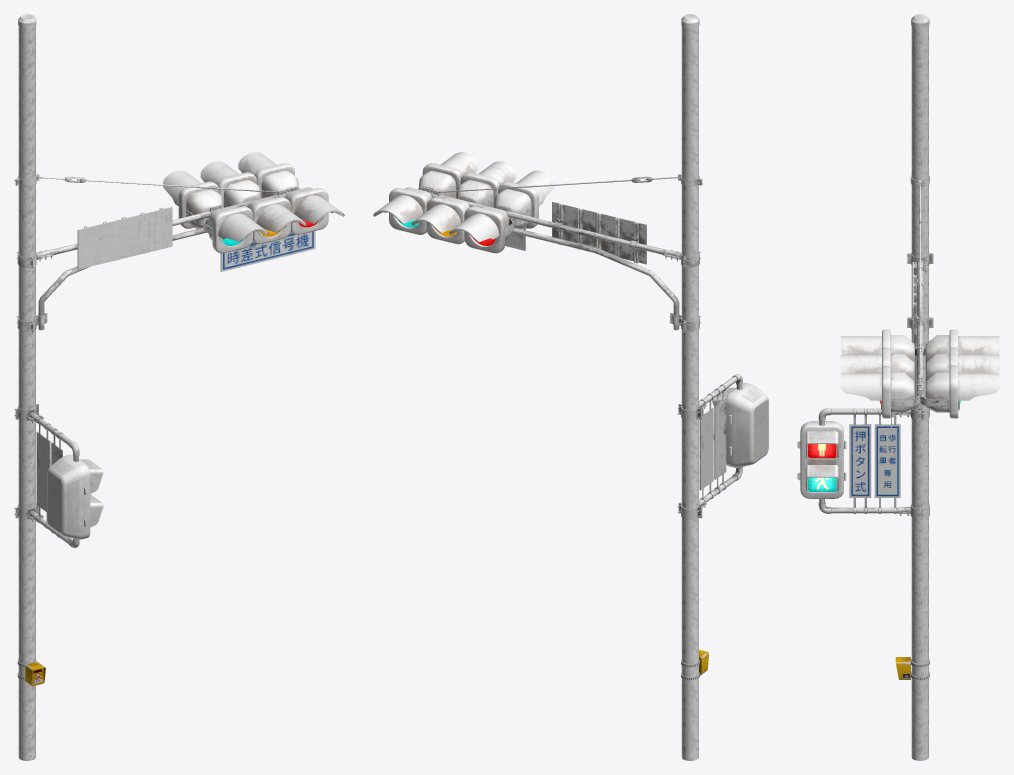
Rendered from TrafficLight.fbx.
The picture shows the model from 3 angles, left to right: view 1: azimuth 30°, elevation 25°; view 2: azimuth 150°, elevation 25°; view 3: azimuth 270°, elevation 25°; orthographic projection.
Parts seen in each view (by area): view 1: TrafficLightPole_LOD0, TrafficLight_forCar_LOD0, TrafficLight_forCar_ura_LOD0, TrafficLight_forWalk_LOD0, TrafficLight_address, TrafficLight_forCar_panel_timertype, TrafficLight_forWalk_panel; view 2: TrafficLightPole_LOD0, TrafficLight_forCar_LOD0, TrafficLight_forCar_ura_LOD0, TrafficLight_forWalk_LOD0, TrafficLight_address, TrafficLight_forWalk_panel, TrafficLight_forWalk_button_panel; view 3: TrafficLightPole_LOD0, TrafficLight_forCar_LOD0, TrafficLight_forCar_ura_LOD0, TrafficLight_forWalk_LOD0, TrafficLight_forWalk_panel, TrafficLight_forWalk_button_panel, TrafficLight_forWalk_button_LOD0, TrafficLight_address, TrafficLight_forWalk_Green, TrafficLight_forWalk_Red.
Part boxes in pixels (x1,y1,x2,y2): TrafficLightPole_LOD0: (18, 14, 36, 760); TrafficLight_forCar_LOD0: (14, 173, 344, 332); TrafficLight_forCar_ura_LOD0: (163, 152, 299, 228); TrafficLight_forWalk_LOD0: (14, 404, 103, 548); TrafficLight_address: (77, 207, 172, 269); TrafficLight_forCar_panel_timertype: (220, 231, 315, 271); TrafficLight_forWalk_panel: (36, 417, 50, 528); TrafficLightPole_LOD0: (681, 14, 699, 760); TrafficLight_forCar_LOD0: (417, 152, 702, 332); TrafficLight_forCar_ura_LOD0: (373, 187, 514, 253); TrafficLight_forWalk_LOD0: (677, 374, 768, 519); TrafficLight_address: (552, 201, 646, 264); TrafficLight_forWalk_panel: (699, 393, 713, 502); TrafficLight_forWalk_button_panel: (714, 384, 726, 493); TrafficLightPole_LOD0: (911, 14, 929, 760); TrafficLight_forCar_LOD0: (840, 175, 933, 418); TrafficLight_forCar_ura_LOD0: (920, 329, 999, 418); TrafficLight_forWalk_LOD0: (797, 408, 929, 520); TrafficLight_forWalk_panel: (874, 408, 900, 513); TrafficLight_forWalk_button_panel: (849, 408, 871, 513); TrafficLight_forWalk_button_LOD0: (895, 657, 929, 680); TrafficLight_address: (912, 262, 923, 343); TrafficLight_forWalk_Green: (808, 477, 836, 491); TrafficLight_forWalk_Red: (808, 444, 836, 458).
Size of what is drawn, in the model's own units: 3.23 by 7.5 by 1.86.
